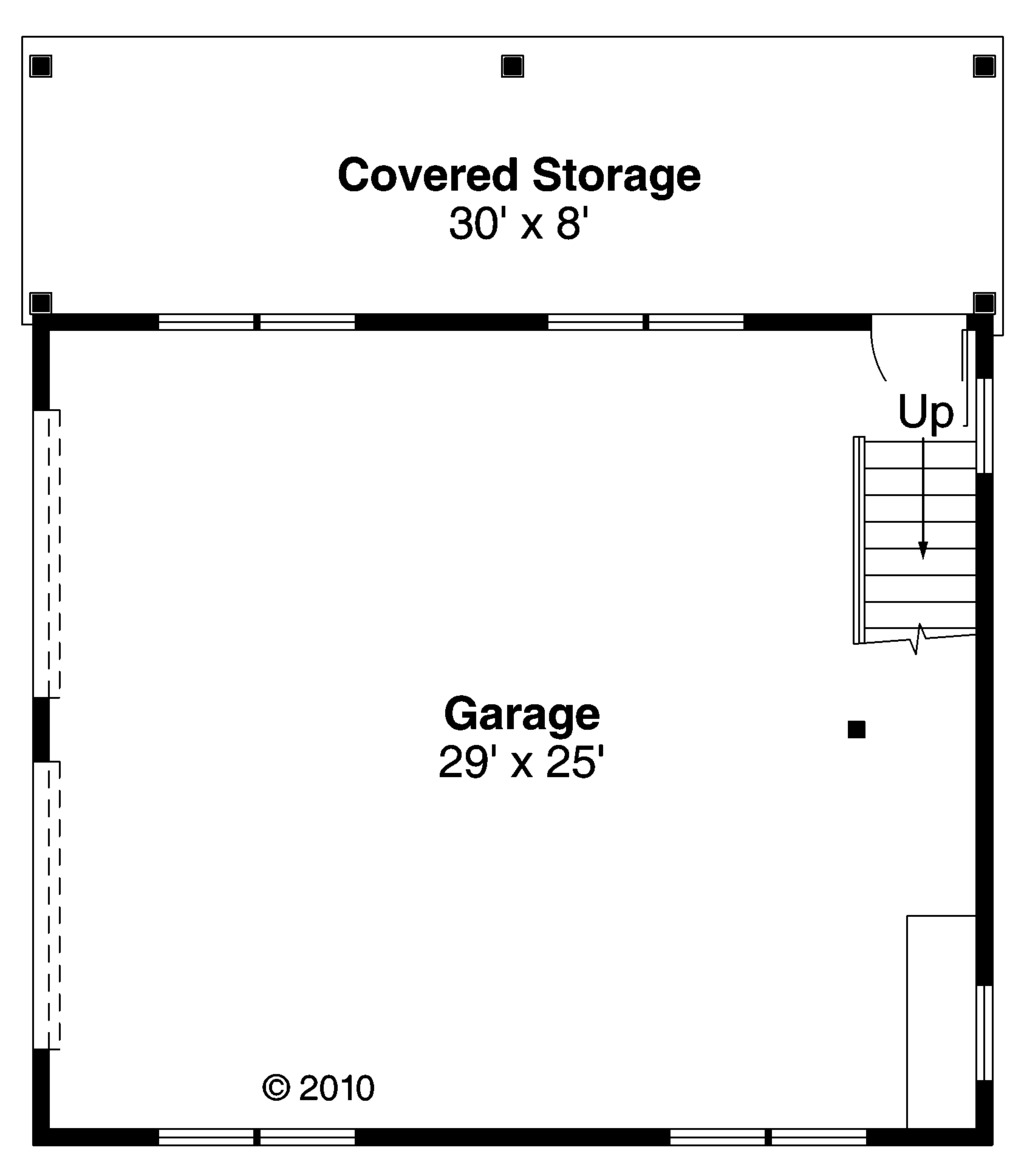door: (826, 415, 980, 661), (867, 306, 978, 411)
window: (260, 297, 357, 340), (648, 300, 748, 340), (153, 302, 258, 340), (548, 304, 651, 341), (269, 1118, 367, 1152), (771, 1120, 869, 1152), (669, 1120, 769, 1150), (157, 1127, 260, 1150), (978, 982, 996, 1090)
